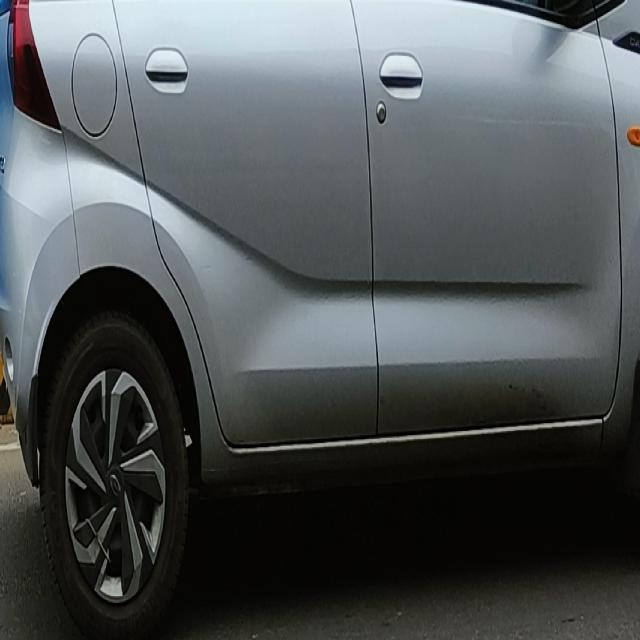scratch: (502, 376, 550, 416)
